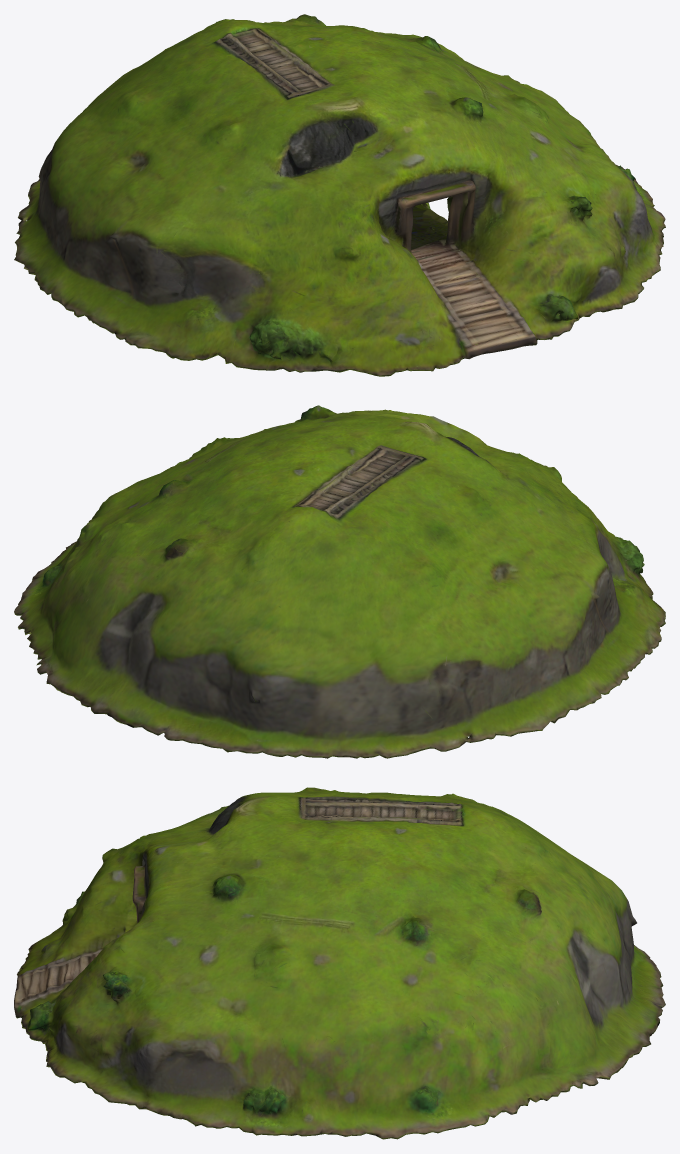
File: Great Mound.fbx
The picture shows the model from 3 angles, top to bottom: view 1: azimuth 30°, elevation 25°; view 2: azimuth 150°, elevation 25°; view 3: azimuth 270°, elevation 25°; orthographic projection.
Visible parts, largest first — view 1: Mesh_0; view 2: Mesh_0; view 3: Mesh_0.
Boxes of the visible parts, <box> form: Mesh_0: <box>14,14,665,376</box>; Mesh_0: <box>14,405,665,758</box>; Mesh_0: <box>14,787,665,1139</box>.
Bounding box in the file's own units: 200 × 60.87 × 201.
Materials: 1 (1 with a texture image).
